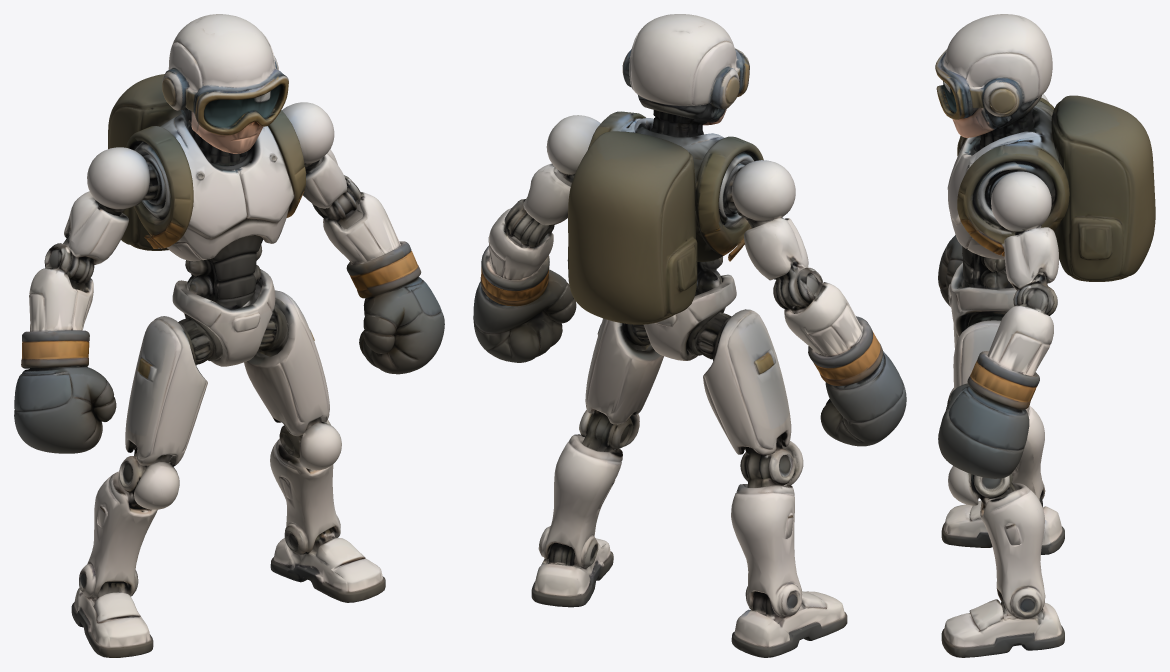
File: raider.glb
3 views of the same model, side by side, from view 1: azimuth 30°, elevation 25°; view 2: azimuth 150°, elevation 25°; view 3: azimuth 270°, elevation 25° (orthographic). The views are drawn at different scales.
Visible parts, largest first — view 1: node_0; view 2: node_0; view 3: node_0.
Boxes of the visible parts, x1,y1,x2,y2 form: node_0: (14,14,444,657); node_0: (473,14,906,657); node_0: (935,14,1155,657).
Size of the model in its own units: 0.7858 by 1.04 by 0.3654.
Materials: 1 (1 with a texture image).
